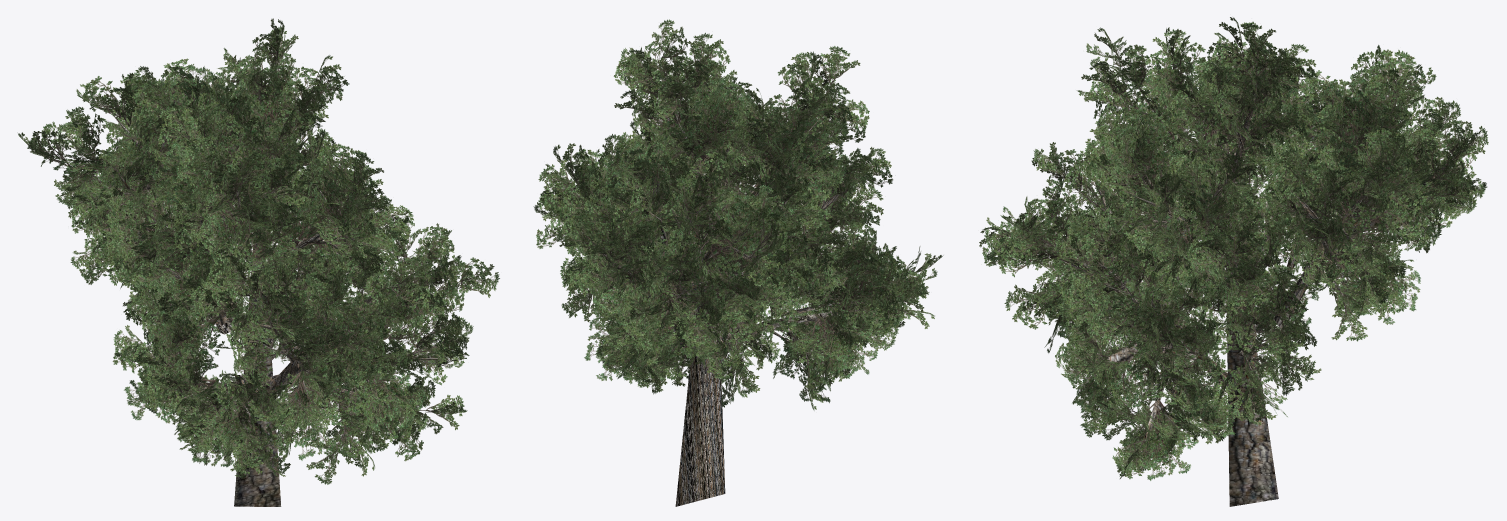
File: shade_tree.glb
3 renders of one model, left to right at view 1: azimuth 30°, elevation 25°; view 2: azimuth 150°, elevation 25°; view 3: azimuth 270°, elevation 25°, orthographic. The views are drawn at different scales.
Parts seen in each view (by area): view 1: 13_1_w; view 2: 13_1_w; view 3: 13_1_w.
Part boxes in pixels (<box>): 13_1_w: <box>18,18,499,506</box>; 13_1_w: <box>533,19,943,506</box>; 13_1_w: <box>979,17,1488,506</box>.
Size of the model in its own units: 9.09 by 11.03 by 10.5.
Materials: 5 (5 with a texture image).
